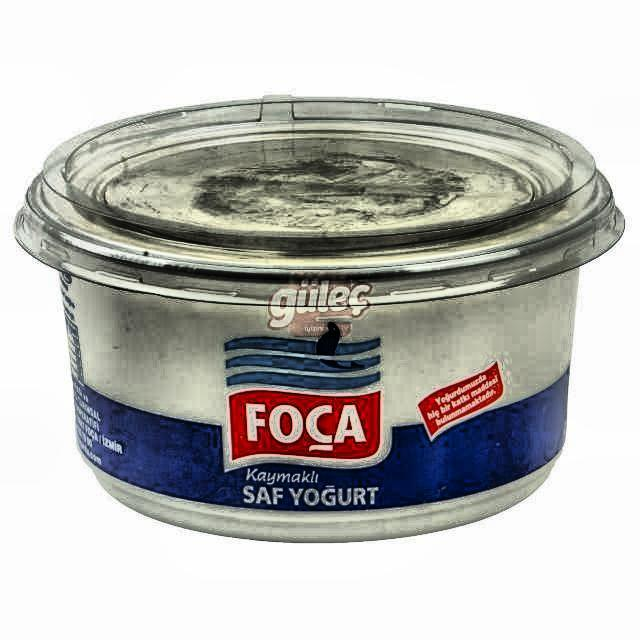plastic: (13, 94, 626, 547)
